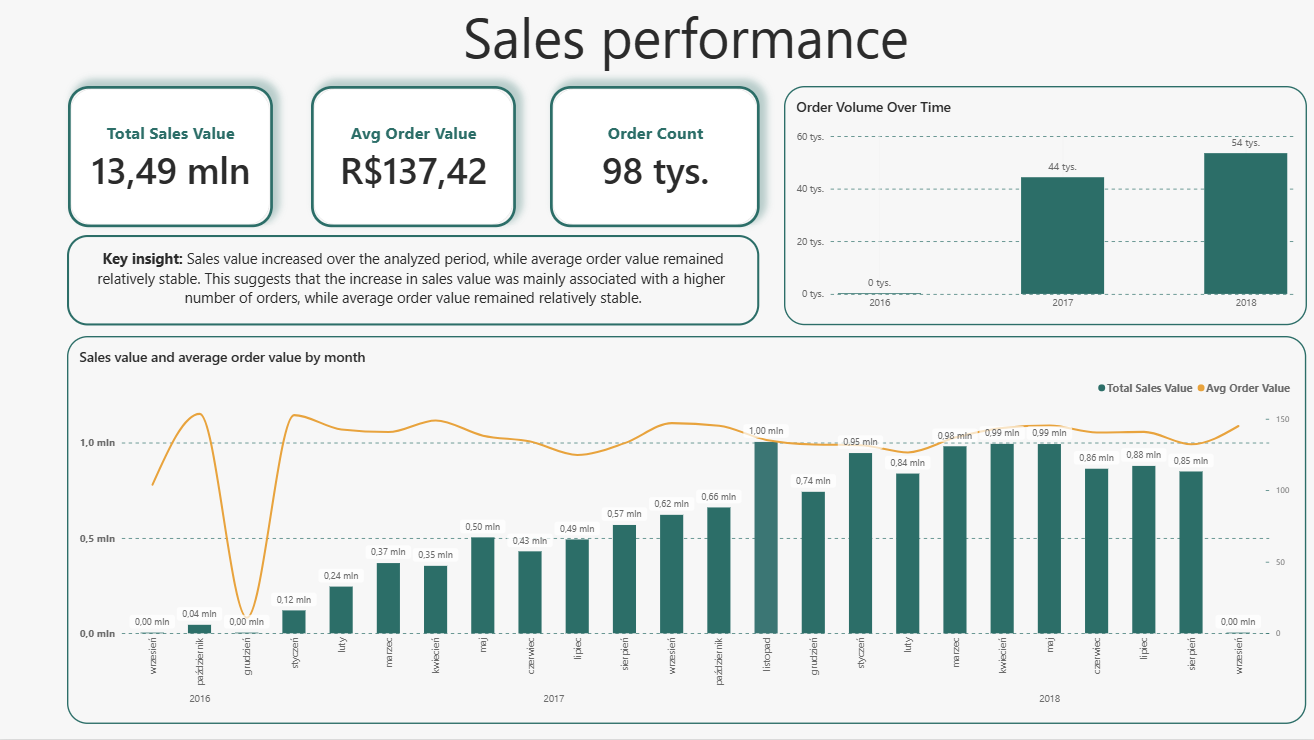

What the dashboard file says about the page in this screenshot:
{"tool":"powerbi","page":{"name":"Sales","canvas":[1920,1080],"ordinal":0},"visuals":[{"type":"cardVisual","fields":{"Data":["analysis vw_sales_monthly.Total Sales Value"]},"box":[101.4,127.1,298.6,206],"z":0},{"type":"lineClusteredColumnComboChart","title":"Sales value and average order value by month","fields":{"Category":["analysis vw_sales_monthly.Month Date.Odmiana.Hierarchia dat.Rok","analysis vw_sales_monthly.Month Date.Odmiana.Hierarchia dat.Miesiąc"],"Y2":["analysis vw_sales_monthly.AVG Order Value"],"Y":["analysis vw_sales_monthly.Total Sales Value"]},"box":[101.3,491.5,1807.9,565.7],"z":1000},{"type":"cardVisual","fields":{"Data":["analysis vw_sales_monthly.Order Count"]},"box":[805.7,127.1,306.1,206],"z":2000},{"type":"cardVisual","fields":{"Data":["analysis vw_sales_monthly.AVG Order Value"]},"box":[457.1,127.1,298.6,206],"z":3000},{"type":"textbox","box":[88.1,0,1831.9,110.5],"z":4000},{"type":"clusteredColumnChart","title":"Order Volume Over Time","fields":{"Y":["analysis vw_sales_monthly.Order Count"],"Category":["analysis vw_sales_monthly.Month Date.Odmiana.Hierarchia dat.Rok","analysis vw_sales_monthly.Month Date.Odmiana.Hierarchia dat.Kwartał"]},"box":[1146.6,126.9,762.9,349.4],"z":5000},{"type":"textbox","box":[101,344.3,1010,132.3],"z":6000}]}

Visuals, with their boxes in screenshot pixels (x1, y1, x2, y2), scaled from the page's 1920x1080 canvas onto the 1314x740 screenshot:
cardVisual - analysis vw_sales_monthly.Total Sales Value: 69:87:274:228
"Sales value and average order value by month" lineClusteredColumnComboChart: 69:337:1307:724
cardVisual - analysis vw_sales_monthly.Order Count: 551:87:761:228
cardVisual - analysis vw_sales_monthly.AVG Order Value: 313:87:517:228
textbox: 60:0:1313:76
"Order Volume Over Time" clusteredColumnChart: 785:87:1307:326
textbox: 69:236:760:327
